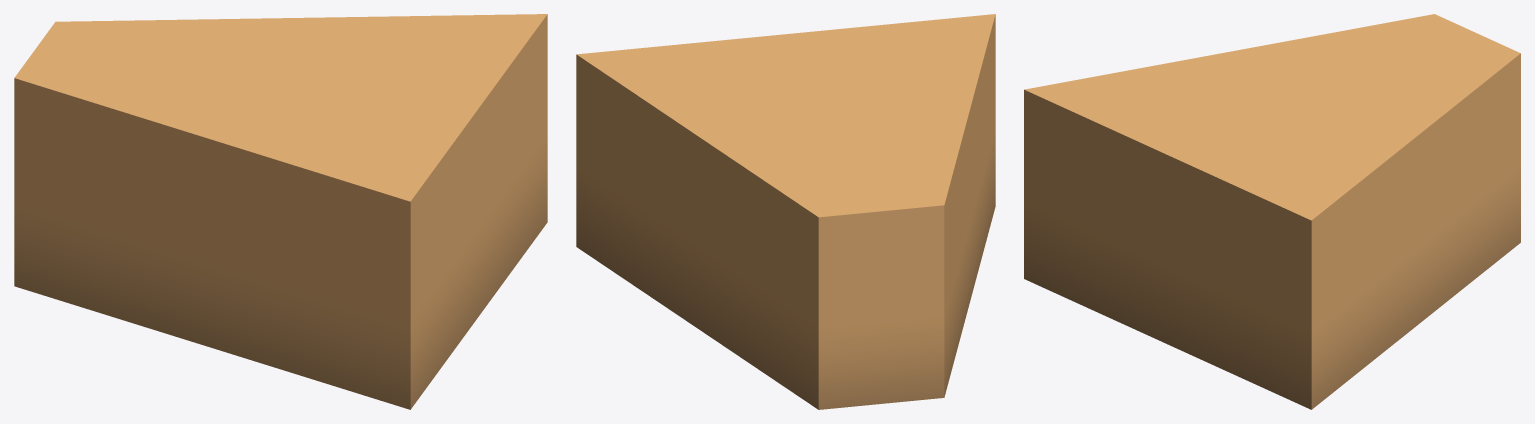
Rendered from PlatTri01.003.glb.
3 renders of one model, left to right at view 1: azimuth 30°, elevation 25°; view 2: azimuth 150°, elevation 25°; view 3: azimuth 270°, elevation 25°, orthographic. The views are drawn at different scales.
Visible parts, largest first — view 1: PlatTri01.003; view 2: PlatTri01.003; view 3: PlatTri01.003.
Boxes of the visible parts, x1=… form: PlatTri01.003: x1=14, y1=14, x2=547, y2=409; PlatTri01.003: x1=576, y1=14, x2=995, y2=409; PlatTri01.003: x1=1024, y1=14, x2=1520, y2=409.
Size of what is drawn, in the model's own units: 2.7 by 1.15 by 2.74.
Materials: 1 (1 with a texture image).
